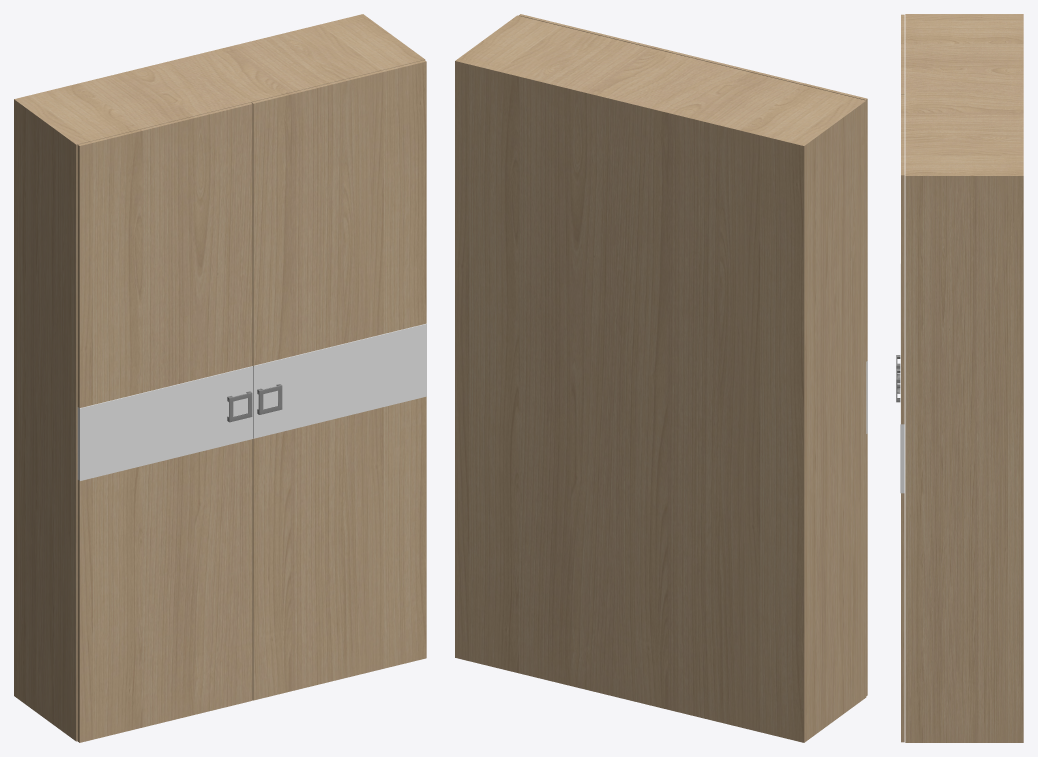
File: cupboard.fbx
3 views of the same model, side by side, from view 1: azimuth 30°, elevation 25°; view 2: azimuth 150°, elevation 25°; view 3: azimuth 270°, elevation 25° (orthographic). The views are drawn at different scales.
Parts seen in each view (by area): view 1: cupboard_body; view 2: cupboard_body; view 3: cupboard_body.
Boxes of the visible parts, box(x1,y1,x2,y2) form: cupboard_body: box(14, 14, 426, 742); cupboard_body: box(455, 14, 867, 742); cupboard_body: box(900, 14, 1023, 742).
Size of the model in its own units: 151 by 247 by 50.19.
